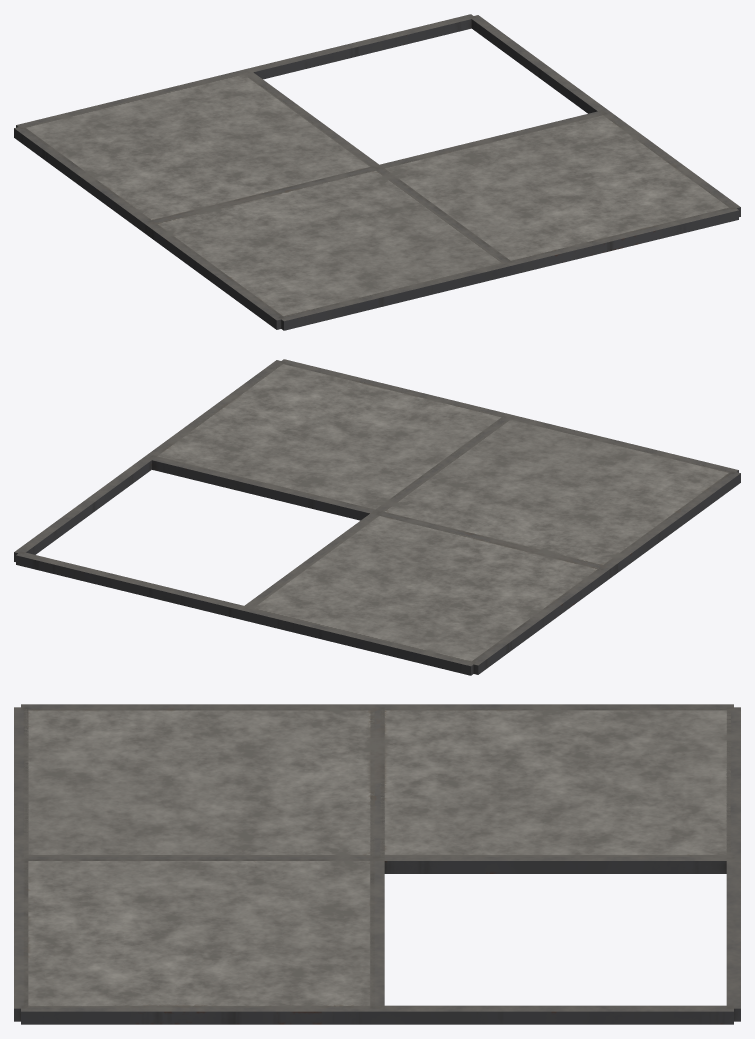
File: SM_CeilingGrid_Section.fbx
The picture shows the model from 3 angles, top to bottom: view 1: azimuth 30°, elevation 25°; view 2: azimuth 150°, elevation 25°; view 3: azimuth 270°, elevation 25°; orthographic projection. The views are drawn at different scales.
Visible parts, largest first — view 1: SM_CeilingGrid_Section; view 2: SM_CeilingGrid_Section; view 3: SM_CeilingGrid_Section.
Boxes of the visible parts, x1,y1,x2,y2 form: SM_CeilingGrid_Section: (14, 14, 740, 330); SM_CeilingGrid_Section: (14, 359, 740, 675); SM_CeilingGrid_Section: (14, 704, 740, 1024).
Bounding box in the file's own units: 1.22 × 0.024 × 1.22.
Materials: 1 (1 with a texture image).
